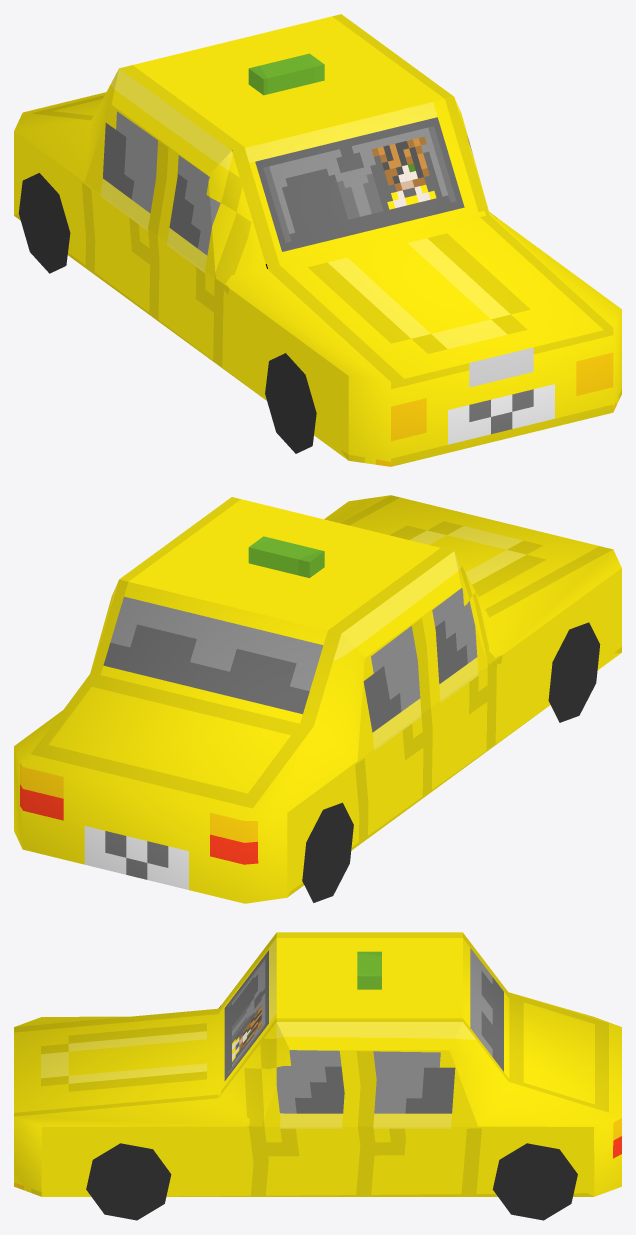
File: obstacle_car.glb
3 renders of one model, top to bottom at view 1: azimuth 30°, elevation 25°; view 2: azimuth 150°, elevation 25°; view 3: azimuth 270°, elevation 25°, orthographic. The views are drawn at different scales.
Visible parts, largest first — view 1: obstacle_car.001; view 2: obstacle_car.001; view 3: obstacle_car.001.
Boxes of the visible parts, x1,y1,x2,y2 form: obstacle_car.001: (14,14,621,466); obstacle_car.001: (14,495,621,903); obstacle_car.001: (14,932,621,1220).
Bounding box in the file's own units: 3.85 × 3.17 × 8.72.
1 material, 1 textured.
